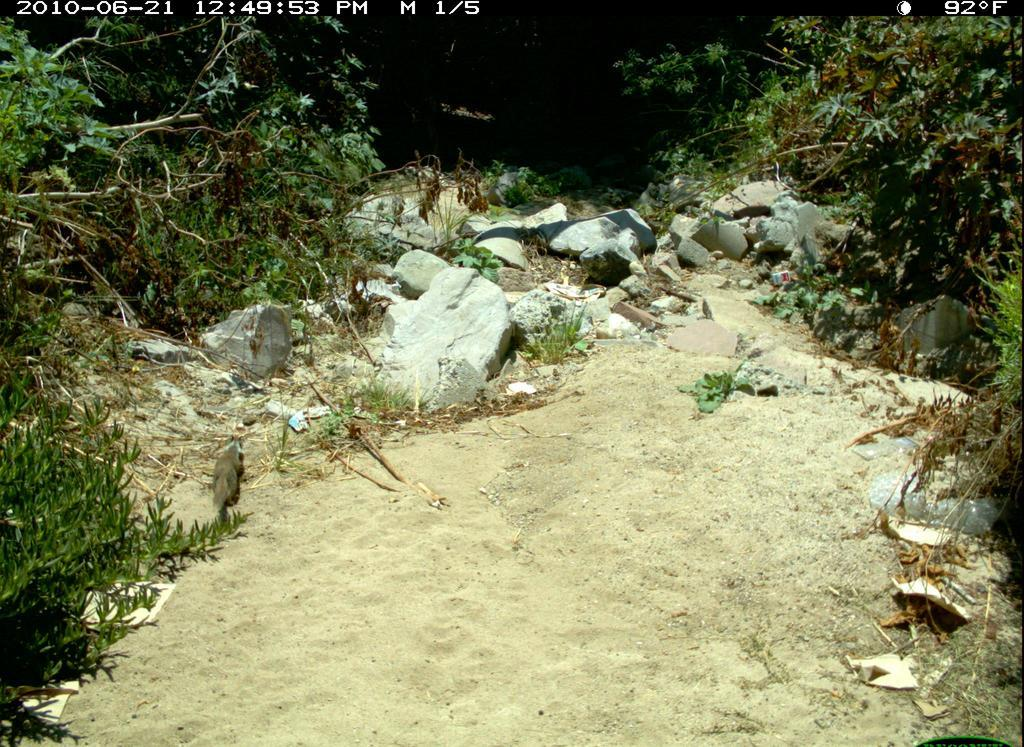squirrel: (198, 427, 267, 532)
